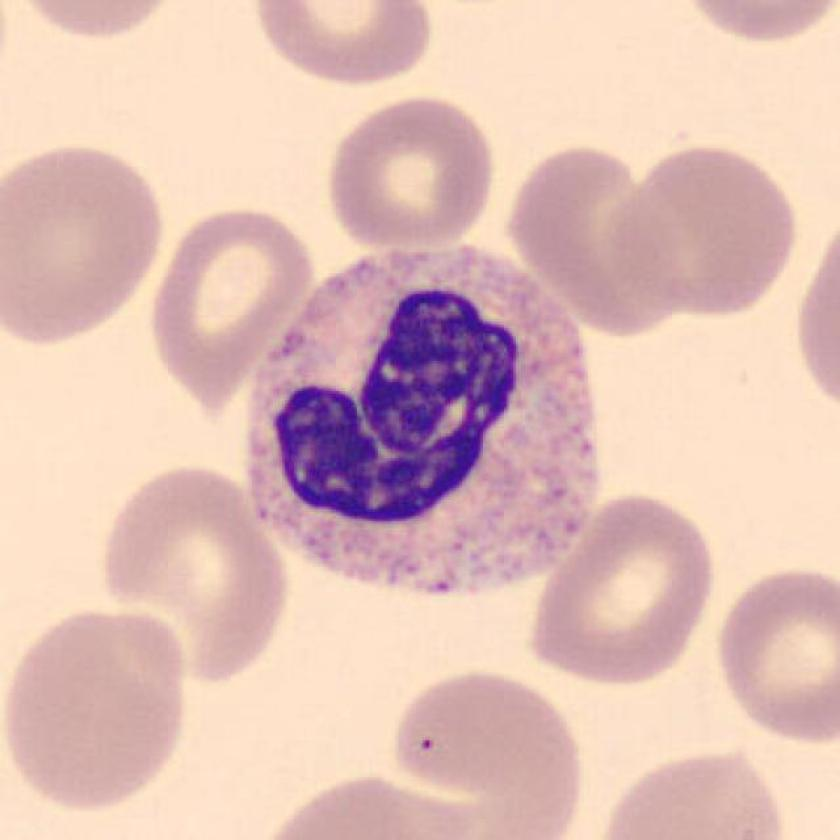neutrophil: (248, 245, 603, 593)
